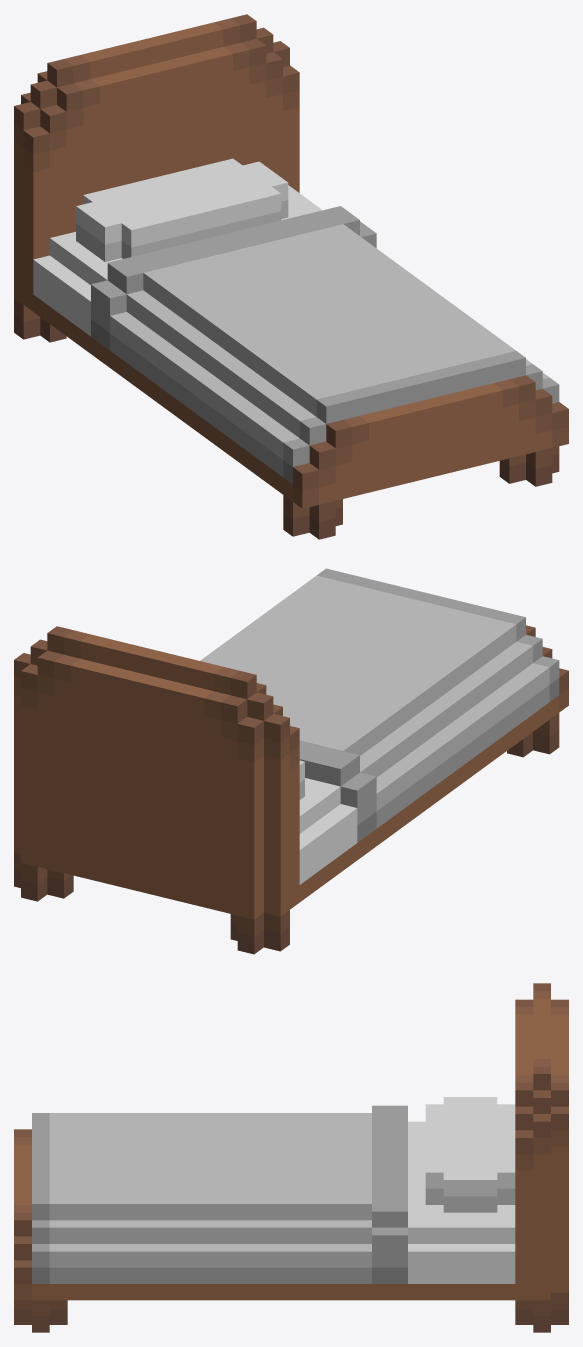
The model's file is Interior_Furniture-76.obj.
3 views of the same model, one above another, from view 1: azimuth 30°, elevation 25°; view 2: azimuth 150°, elevation 25°; view 3: azimuth 270°, elevation 25° (orthographic). The views are drawn at different scales.
Size of the model in its own units: 1.6 by 1.5 by 3.1.
Materials: 1 (1 with a texture image).
